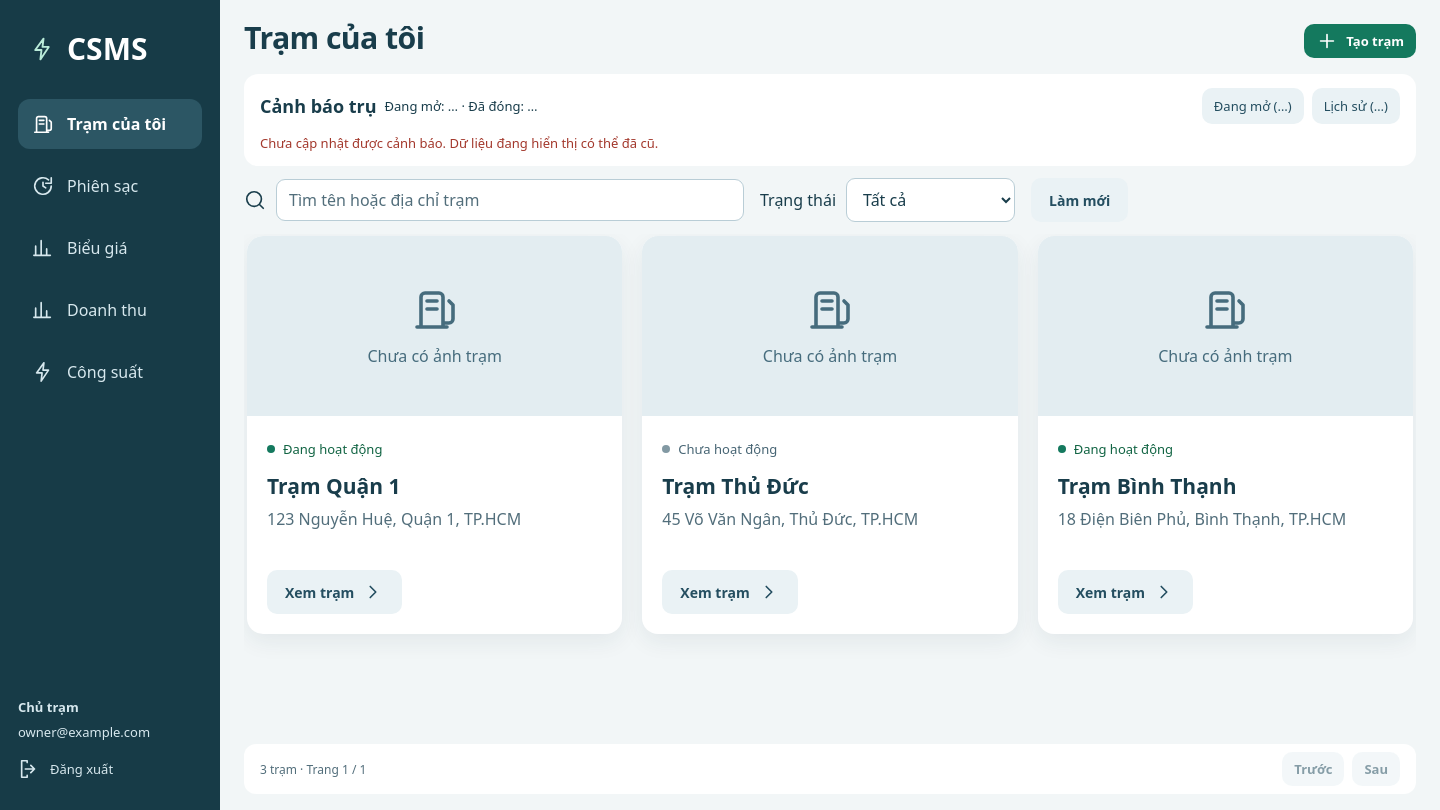
Test case: App › opens a station detail page and returns to the list
What coordinates should you click on to do the following:
click the button with aria-label "Xem chi tiết Trạm Quận 1"
I would click on:
 (335, 592)
Its box is [267, 570, 402, 614].
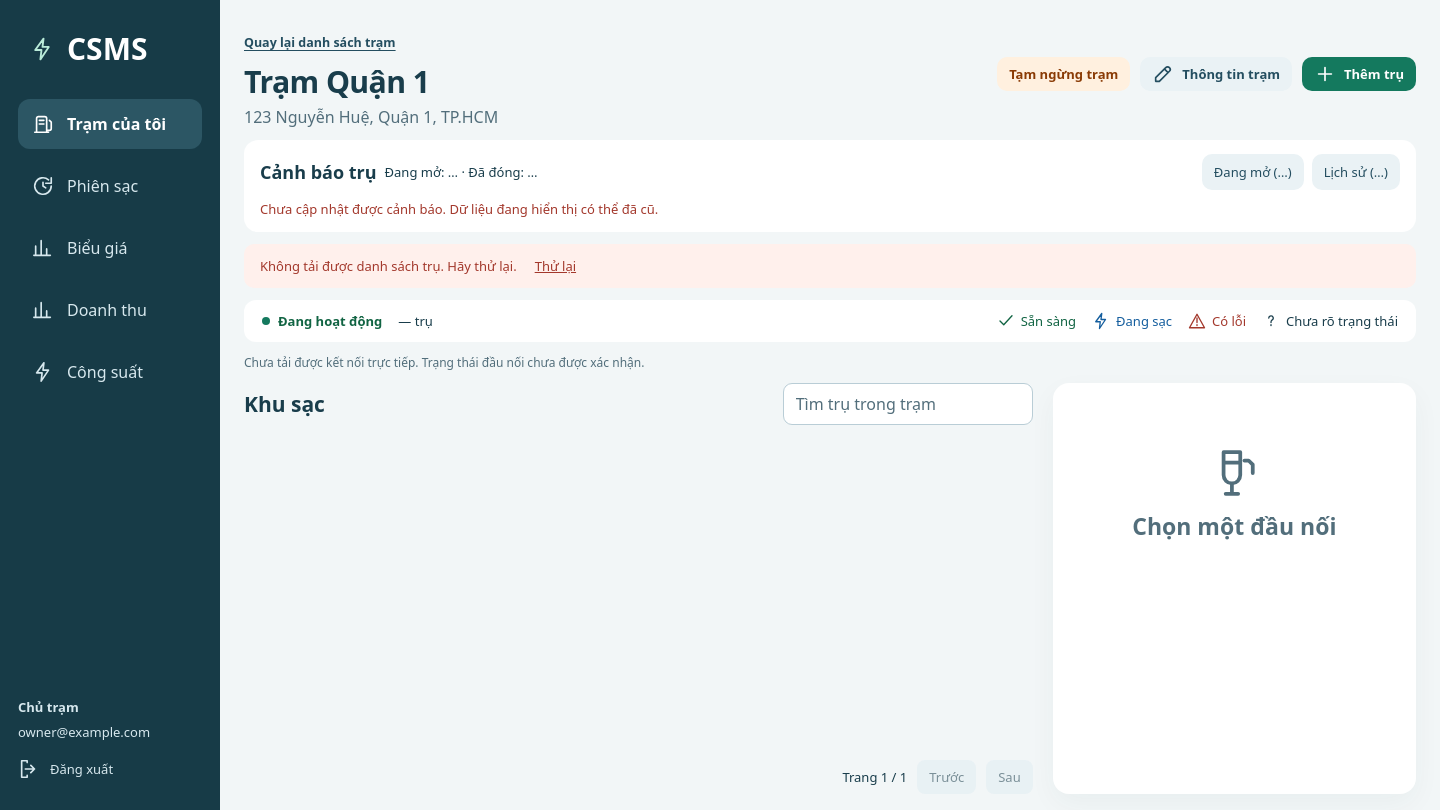
Check: the heading "Trạm Quận 1" is shown, box [244, 61, 430, 102]
What coordinates should you click on to do the following:
click the button "Quay lại danh sách trạm"
I would click on:
 (320, 42)
Its box is [244, 20, 396, 64].
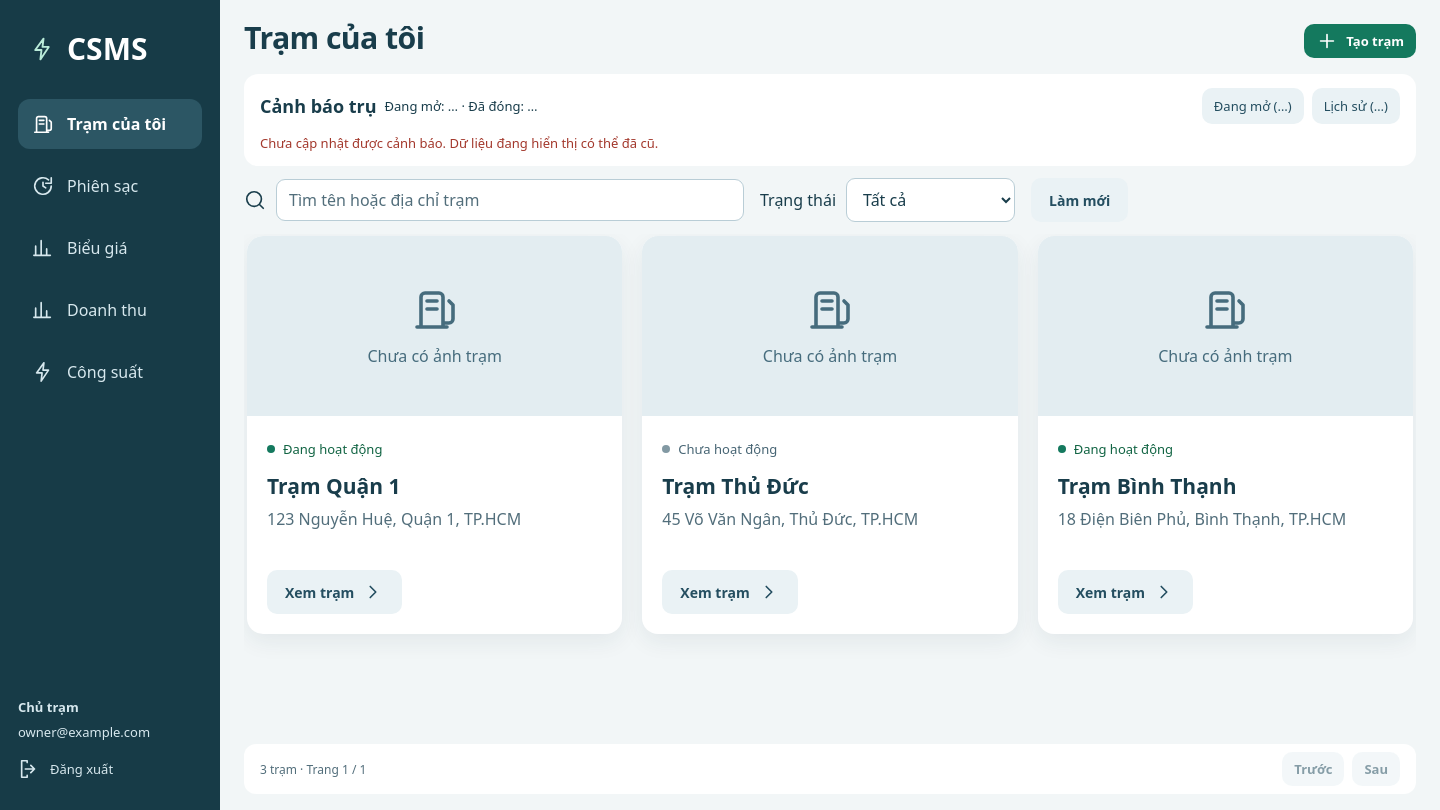
Check: the heading "Trạm của tôi" is shown, box [244, 20, 424, 56]
